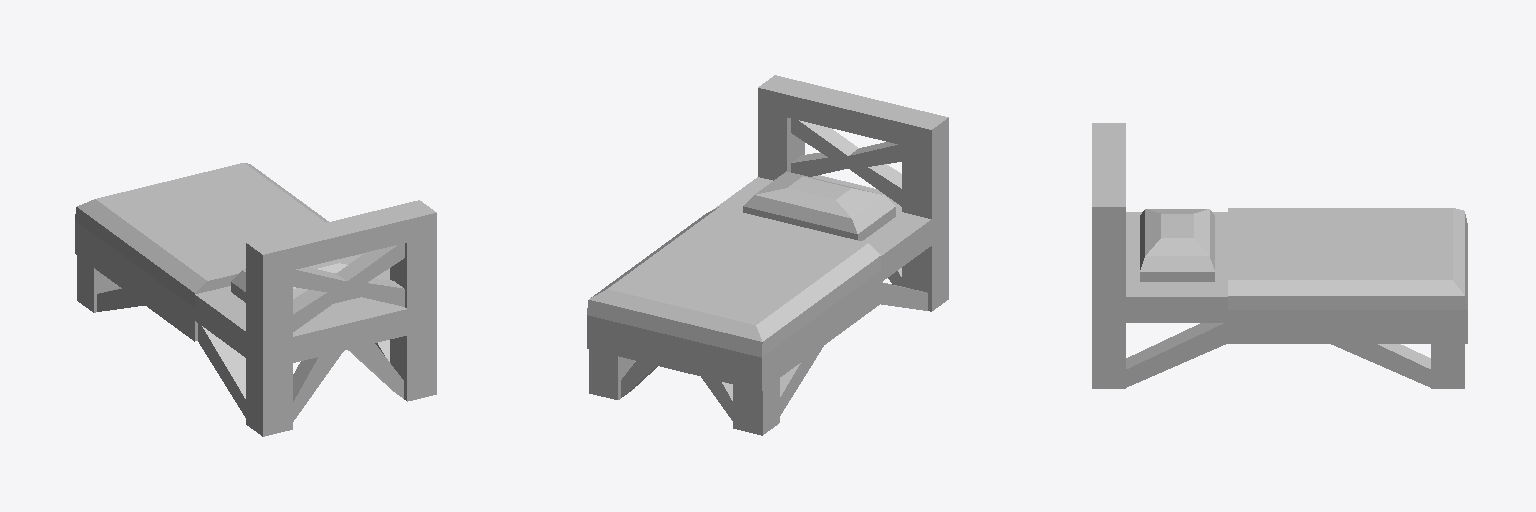
The model's file is bed_single_infernalcaldera.obj.
3 renders of one model, left to right at view 1: azimuth 30°, elevation 25°; view 2: azimuth 150°, elevation 25°; view 3: azimuth 270°, elevation 25°, orthographic.
Visible parts, largest first — view 1: bed_infernal_caldera; view 2: bed_infernal_caldera; view 3: bed_infernal_caldera.
Part boxes in pixels (x1,y1,x2,y2): bed_infernal_caldera: (75, 163, 436, 436); bed_infernal_caldera: (587, 75, 948, 435); bed_infernal_caldera: (1092, 123, 1467, 388).
Size of the model in its own units: 0.8 by 0.795 by 1.49.